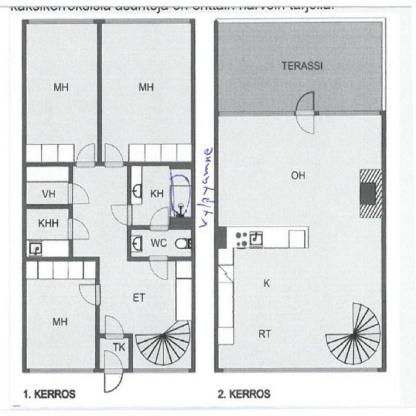door: (102, 350, 125, 394), (295, 92, 315, 140), (66, 219, 92, 243), (148, 203, 170, 231), (75, 142, 97, 169), (148, 255, 170, 282), (109, 203, 134, 226), (78, 283, 103, 306), (68, 181, 90, 206), (104, 316, 126, 340), (104, 142, 123, 169)
window: (222, 366, 378, 372), (132, 367, 189, 375), (30, 18, 94, 24), (29, 368, 92, 374), (104, 19, 189, 23)
zone: (220, 116, 382, 367), (73, 166, 191, 368), (218, 22, 382, 110), (101, 21, 192, 162), (26, 23, 98, 161), (26, 261, 98, 370), (130, 165, 189, 257), (26, 210, 68, 256), (27, 166, 68, 205)
